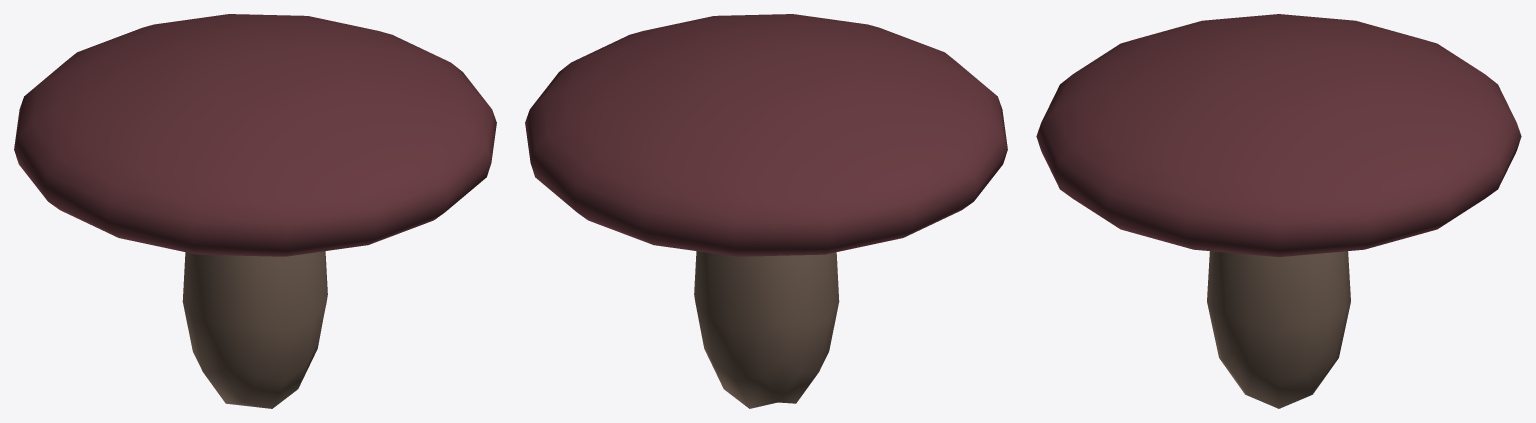
File: ThickMushroom.fbx
3 renders of one model, left to right at view 1: azimuth 30°, elevation 25°; view 2: azimuth 150°, elevation 25°; view 3: azimuth 270°, elevation 25°, orthographic.
Parts seen in each view (by area): view 1: ThiccMushroom; view 2: ThiccMushroom; view 3: ThiccMushroom.
Boxes of the visible parts, left/top/right/bottom form: ThiccMushroom: left=14, top=14, right=496, bottom=408; ThiccMushroom: left=525, top=14, right=1007, bottom=408; ThiccMushroom: left=1036, top=14, right=1521, bottom=408.
Bounding box in the file's own units: 6.29 × 4.82 × 6.29.
